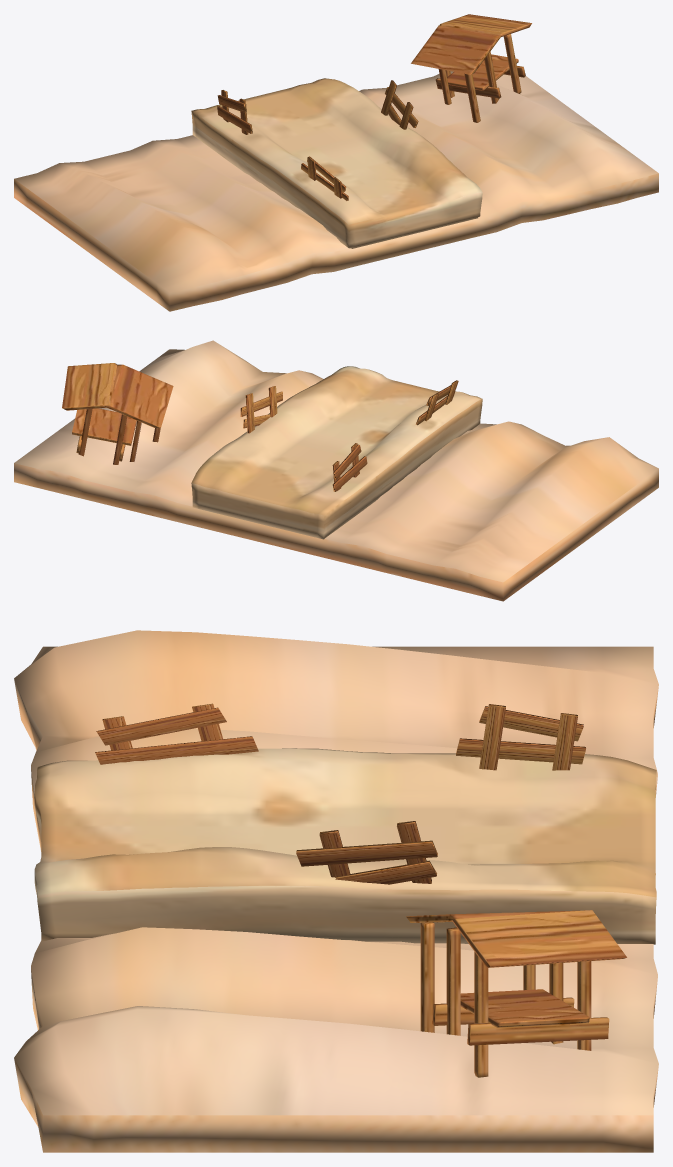
The picture shows the model from 3 angles, top to bottom: view 1: azimuth 30°, elevation 25°; view 2: azimuth 150°, elevation 25°; view 3: azimuth 270°, elevation 25°; orthographic projection. The views are drawn at different scales.
Visible parts, largest first — view 1: Field, Road, Cabin, Fence3, Fence1, Fence2; view 2: Field, Road, Cabin, Fence3, Fence1, Fence2; view 3: Field, Road, Cabin, Fence2, Fence1, Fence3.
Part boxes in pixels (x1,y1,x2,y2): Field: (14,71,658,311); Road: (191,78,482,248); Cabin: (411,14,531,122); Fence3: (381,80,418,129); Fence1: (217,90,252,134); Fence2: (301,156,348,200); Field: (14,340,658,601); Road: (191,366,482,539); Cabin: (62,363,173,464); Fence3: (240,386,282,433); Fence1: (332,443,367,491); Fence2: (416,380,458,425); Field: (14,630,658,1152); Road: (34,748,656,944); Cabin: (406,910,626,1077); Fence2: (95,703,258,764); Fence1: (456,704,585,770); Fence3: (296,821,437,884).
Size of the model in its own units: 6.78 by 1.25 by 3.94.
6 materials, 6 textured.
